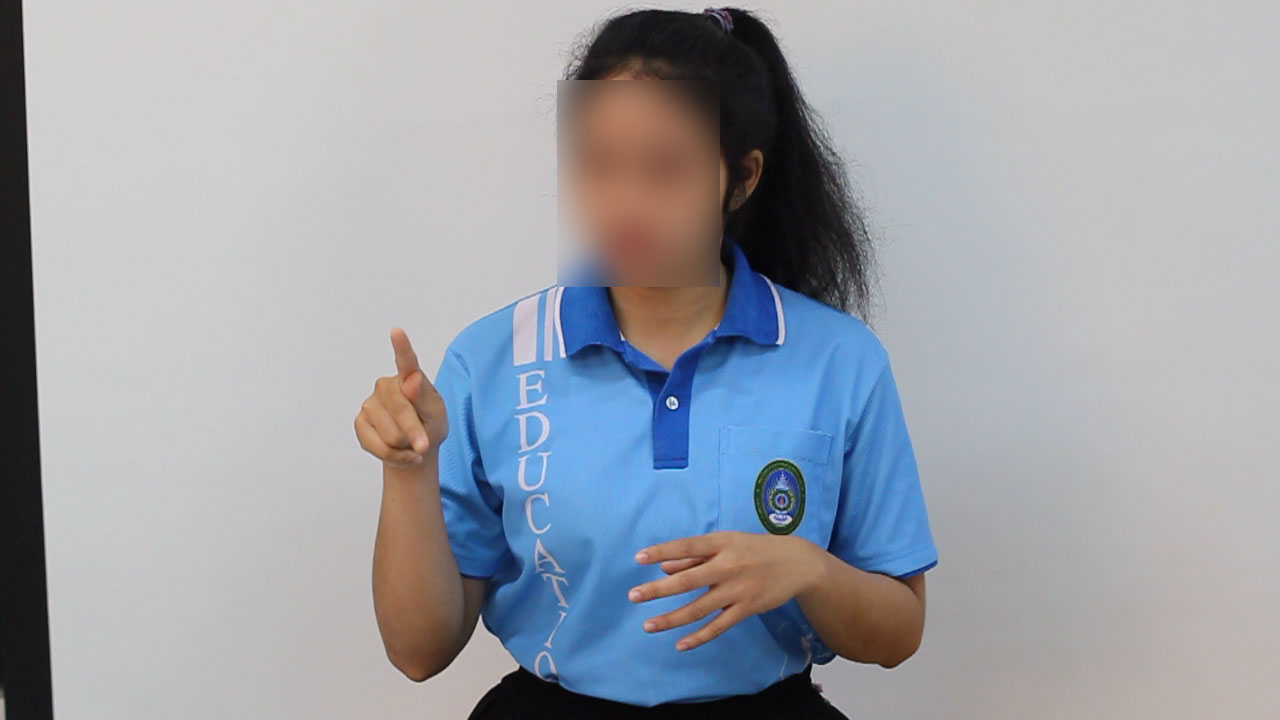por: (349, 314, 461, 473)
